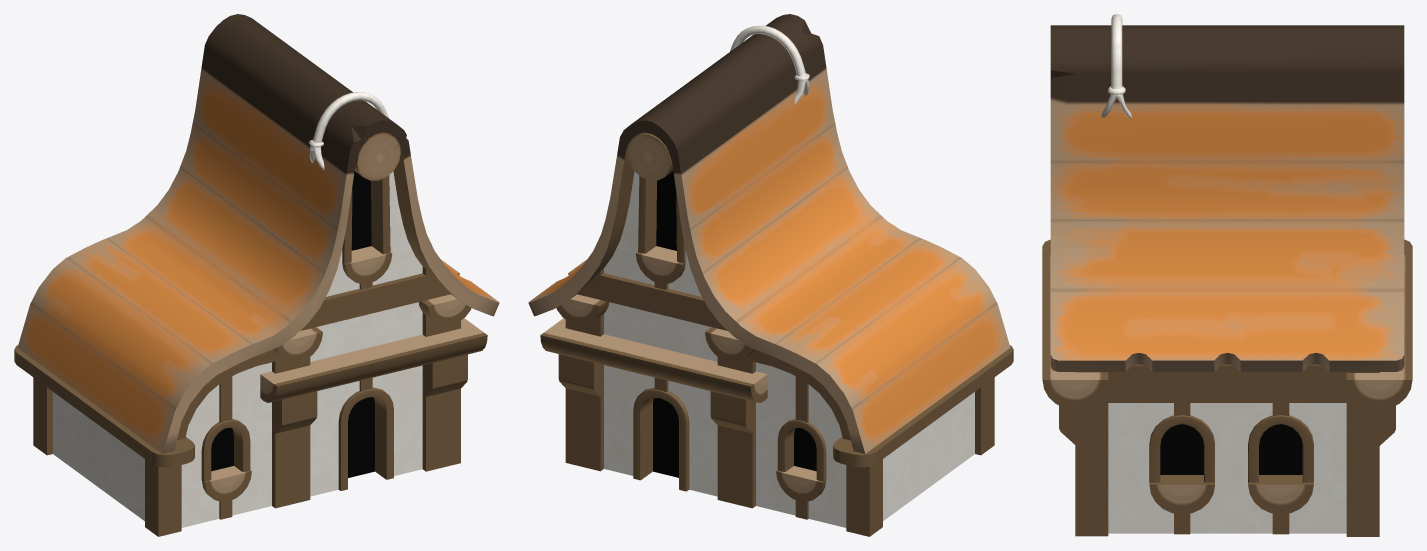
File: UK_House_01.fbx
The picture shows the model from 3 angles, left to right: view 1: azimuth 30°, elevation 25°; view 2: azimuth 150°, elevation 25°; view 3: azimuth 270°, elevation 25°; orthographic projection. The views are drawn at different scales.
Visible parts, largest first — view 1: DOFUS_House_01; view 2: DOFUS_House_01; view 3: DOFUS_House_01.
Boxes of the visible parts, box(x1,y1,x2,y2) form: DOFUS_House_01: box(14, 14, 499, 536); DOFUS_House_01: box(528, 14, 1013, 536); DOFUS_House_01: box(1042, 14, 1412, 536).
Bounding box in the file's own units: 717 × 755 × 547.
